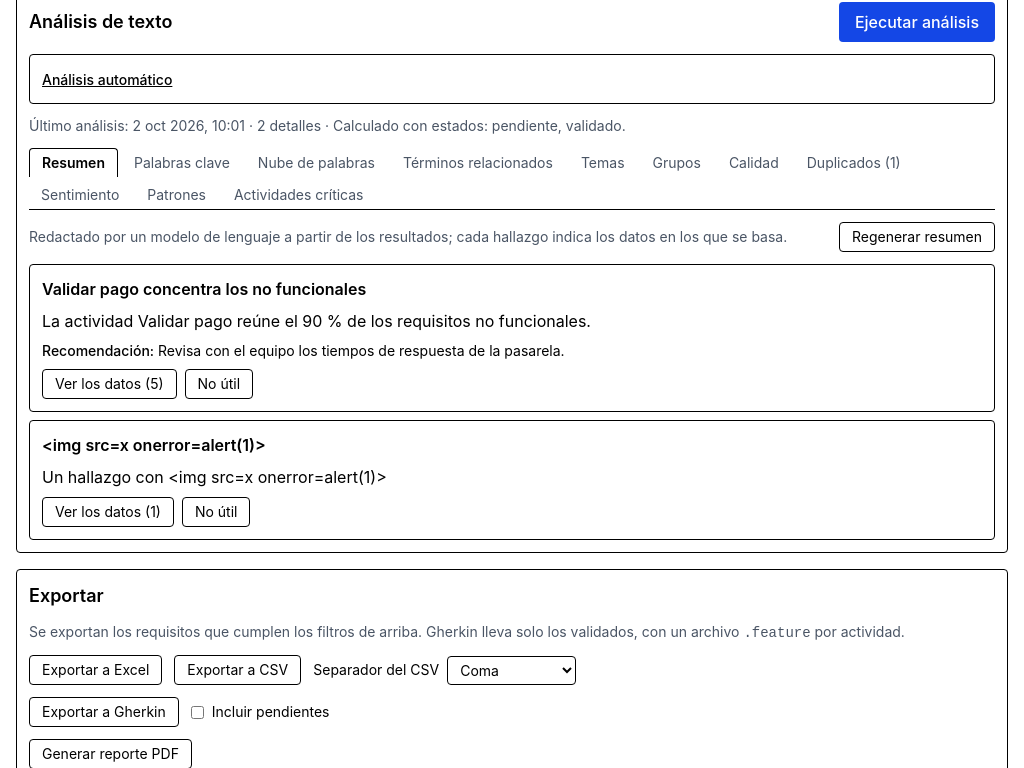
it: resumen de hallazgos › «No útil» lo registra y el insight desaparece
The image size is (1024, 768).
(page scrolled)
Expected: the tab "Resumen" is shown, [29,148,118,177]
Click the button "No útil" below "Recomendación:" at (219, 384), box [185,369,253,399]
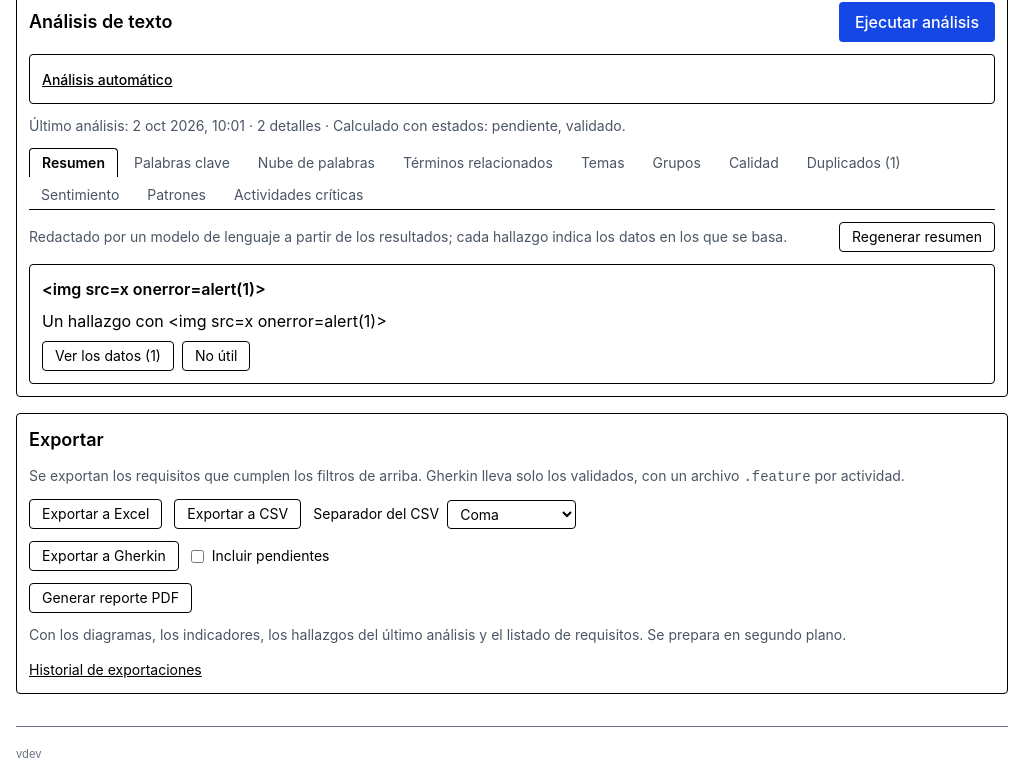
Expected: the heading "Validar pago concentra los no funcionales" is gone
